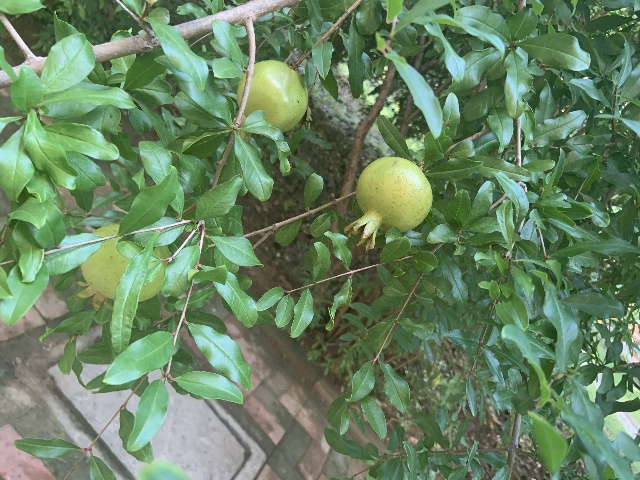mid-growth: (343, 156, 433, 251), (73, 223, 169, 312), (236, 60, 307, 142)
